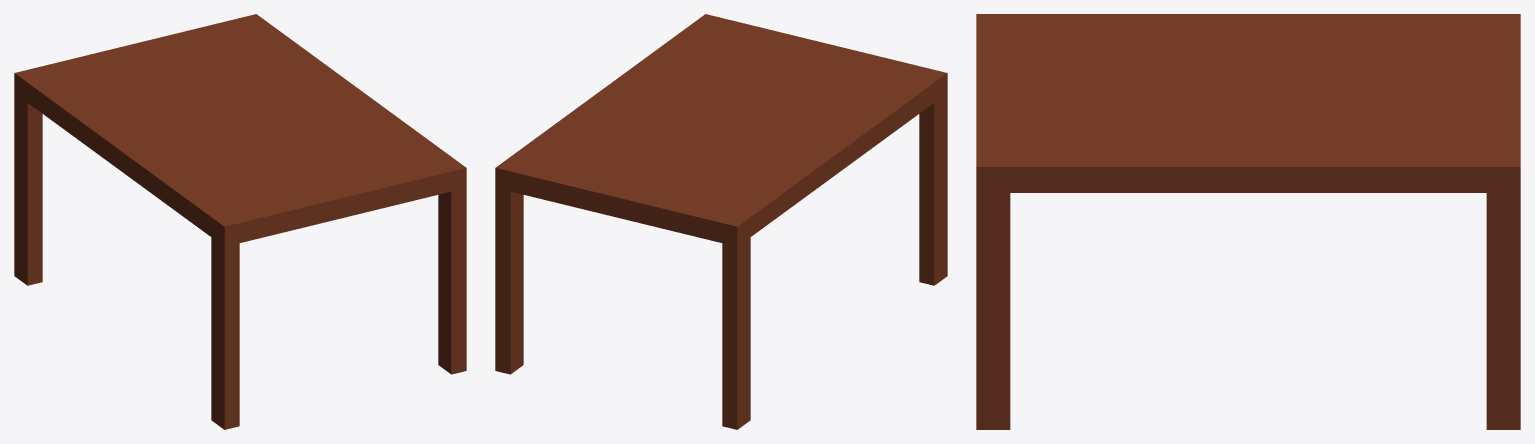
File: table.fbx
3 views of the same model, side by side, from view 1: azimuth 30°, elevation 25°; view 2: azimuth 150°, elevation 25°; view 3: azimuth 270°, elevation 25° (orthographic). The views are drawn at different scales.
Parts seen in each view (by area): view 1: Cube; view 2: Cube; view 3: Cube.
Part boxes in pixels (x1,y1,x2,y2): Cube: (14,14,466,429); Cube: (495,14,947,429); Cube: (976,14,1520,429).
Size of the model in its own units: 466 by 374 by 701.
